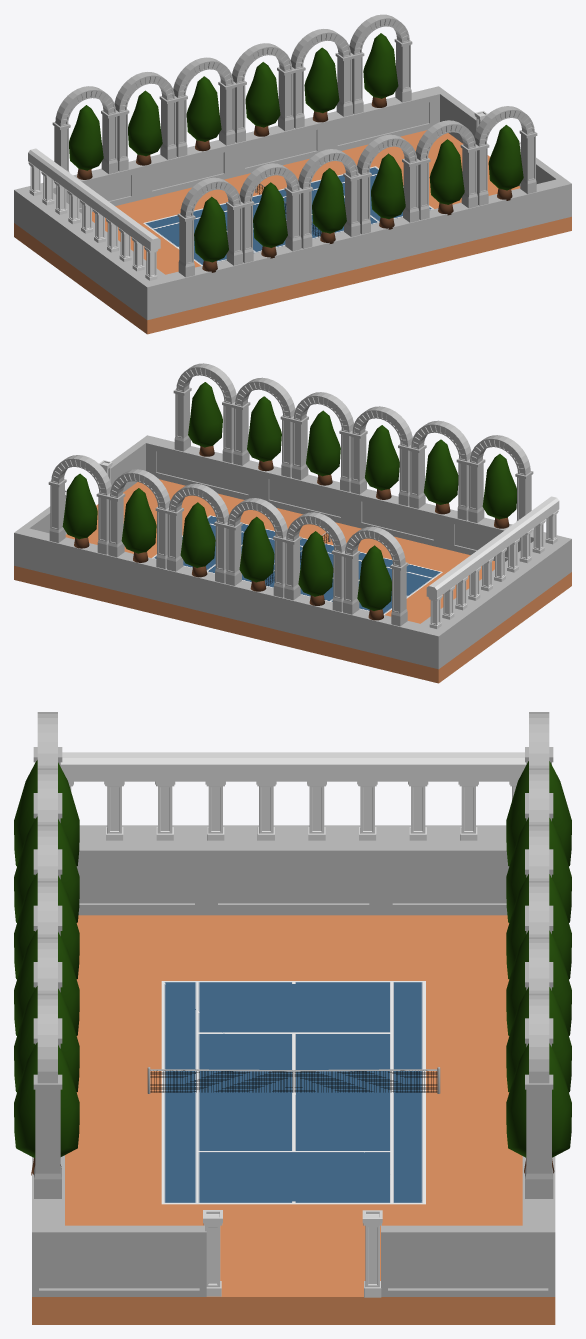
File: TennisCourt.fbx
3 views of the same model, one above another, from view 1: azimuth 30°, elevation 25°; view 2: azimuth 150°, elevation 25°; view 3: azimuth 270°, elevation 25° (orthographic). The views are drawn at different scales.
Visible parts, largest first — view 1: Plane.001, Plane.004, Plane.002, Cylinder.003, Cylinder.002, Cube.003, Cube.004, Plane; view 2: Plane.001, Plane.002, Plane.004, Cylinder.002, Cylinder.003, Cube.003, Cube.004, Plane; view 3: Plane.001, Plane, Cylinder.003, Cylinder.002, Cube.004, Plane.004, Plane.002, Cube.003, Plane.003, Cube.001, Cube.002.
Boxes of the visible parts, x1,y1,x2,y2 form: Plane.001: [14, 86, 571, 334]; Plane.004: [177, 106, 537, 277]; Plane.002: [52, 14, 412, 180]; Cylinder.003: [194, 125, 523, 272]; Cylinder.002: [69, 33, 398, 179]; Cube.003: [28, 162, 158, 280]; Cube.004: [28, 148, 160, 250]; Plane: [143, 166, 433, 265]; Plane.001: [14, 435, 571, 683]; Plane.002: [48, 455, 408, 626]; Plane.004: [173, 363, 533, 522]; Cylinder.002: [62, 473, 391, 620]; Cylinder.003: [188, 382, 516, 528]; Cube.003: [428, 510, 558, 628]; Cube.004: [426, 496, 559, 598]; Plane: [152, 515, 442, 614]; Plane.001: [32, 825, 555, 1324]; Plane: [161, 981, 425, 1204]; Cylinder.003: [14, 760, 79, 1175]; Cylinder.002: [506, 761, 571, 1173]; Cube.004: [60, 752, 526, 781]; Plane.004: [33, 712, 62, 1198]; Plane.002: [525, 712, 553, 1198]; Cube.003: [68, 781, 517, 840]; Plane.003: [150, 1069, 437, 1092]; Cube.001: [362, 1210, 382, 1297]; Cube.002: [203, 1210, 222, 1296].
Size of the model in its own units: 4021 by 1216 by 2324.
Materials: 9 (1 with a texture image).
